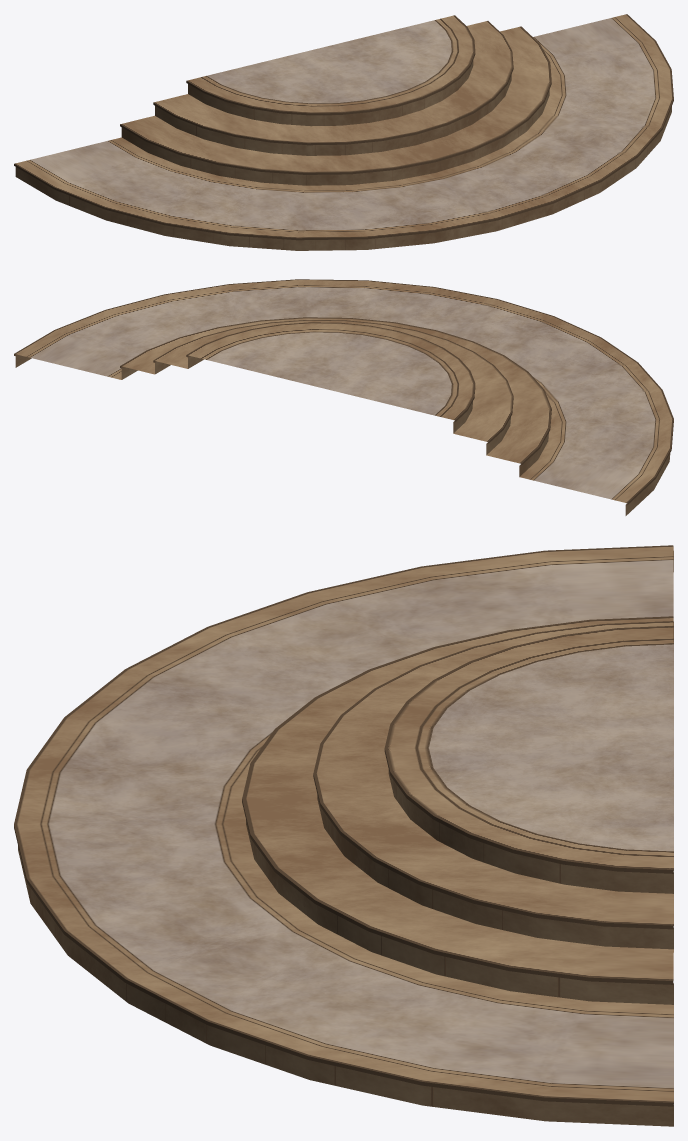
Rendered from Staircase Model.fbx.
3 renders of one model, top to bottom at view 1: azimuth 30°, elevation 25°; view 2: azimuth 150°, elevation 25°; view 3: azimuth 270°, elevation 25°, orthographic. The views are drawn at different scales.
Visible parts, largest first — view 1: Staircase Model; view 2: Staircase Model; view 3: Staircase Model.
Boxes of the visible parts, x1,y1,x2,y2 form: Staircase Model: (14,14,673,250); Staircase Model: (14,279,673,515); Staircase Model: (14,545,673,1126).
Size of the model in its own units: 684 by 58.08 by 342.
1 material, 1 textured.
